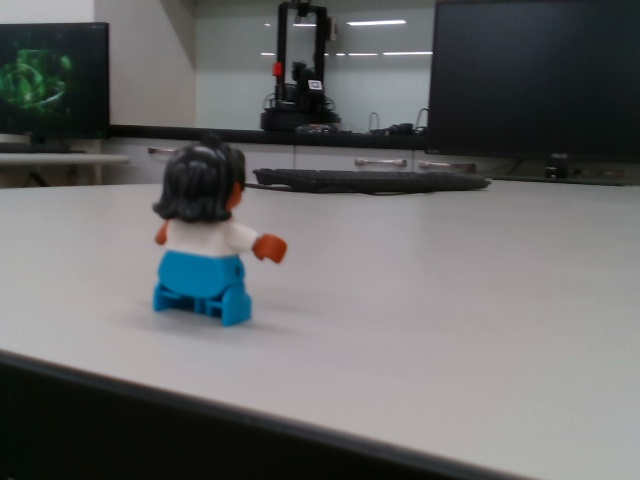people: (145, 135, 293, 329)
